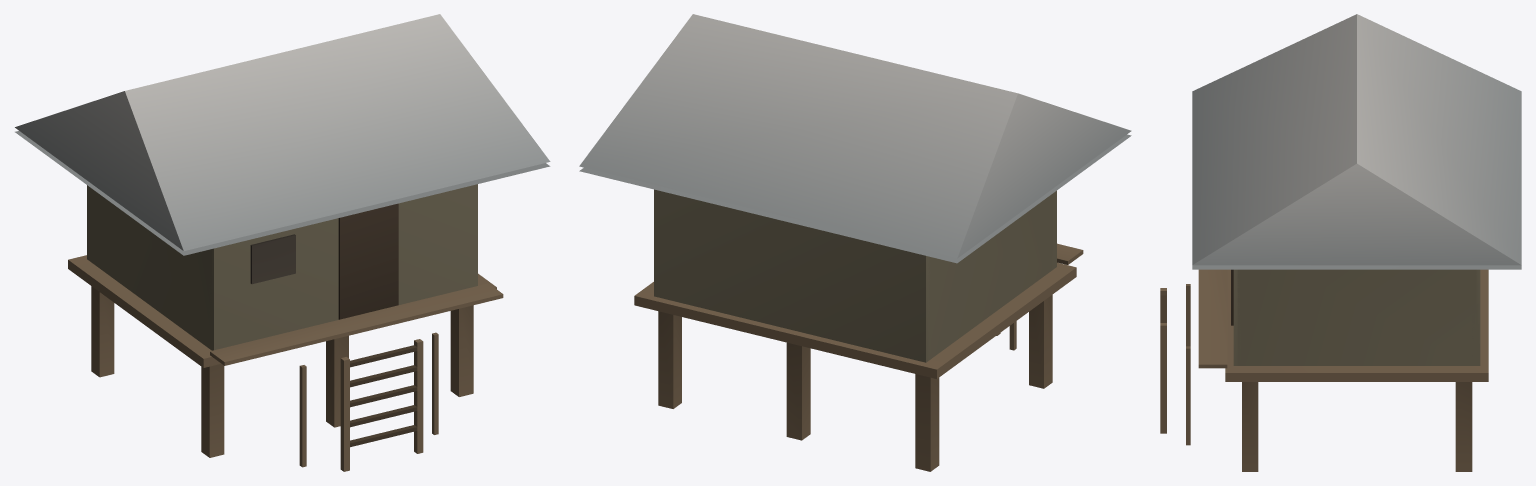
The model's file is farm_hut_lod0.glb.
3 renders of one model, left to right at view 1: azimuth 30°, elevation 25°; view 2: azimuth 150°, elevation 25°; view 3: azimuth 270°, elevation 25°, orthographic. The views are drawn at different scales.
Parts seen in each view (by area): view 1: farm_hut_lod0; view 2: farm_hut_lod0; view 3: farm_hut_lod0.
Boxes of the visible parts, x1,y1,x2,y2 form: farm_hut_lod0: [15, 14, 550, 471]; farm_hut_lod0: [579, 14, 1131, 471]; farm_hut_lod0: [1160, 14, 1521, 471].
Bounding box in the file's own units: 5 × 4.37 × 4.39.
